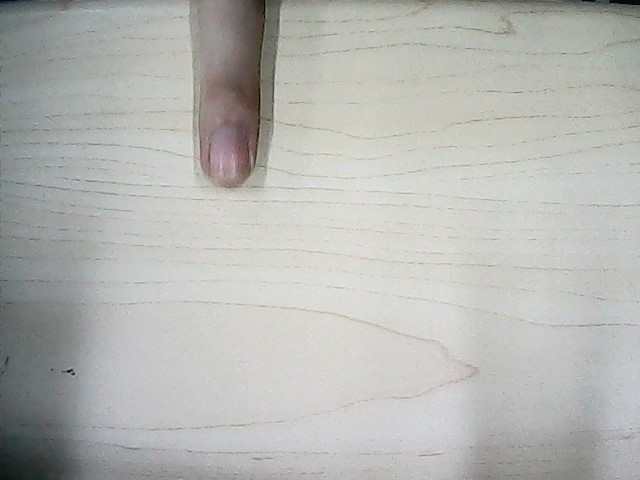nail: (209, 127, 250, 187)
